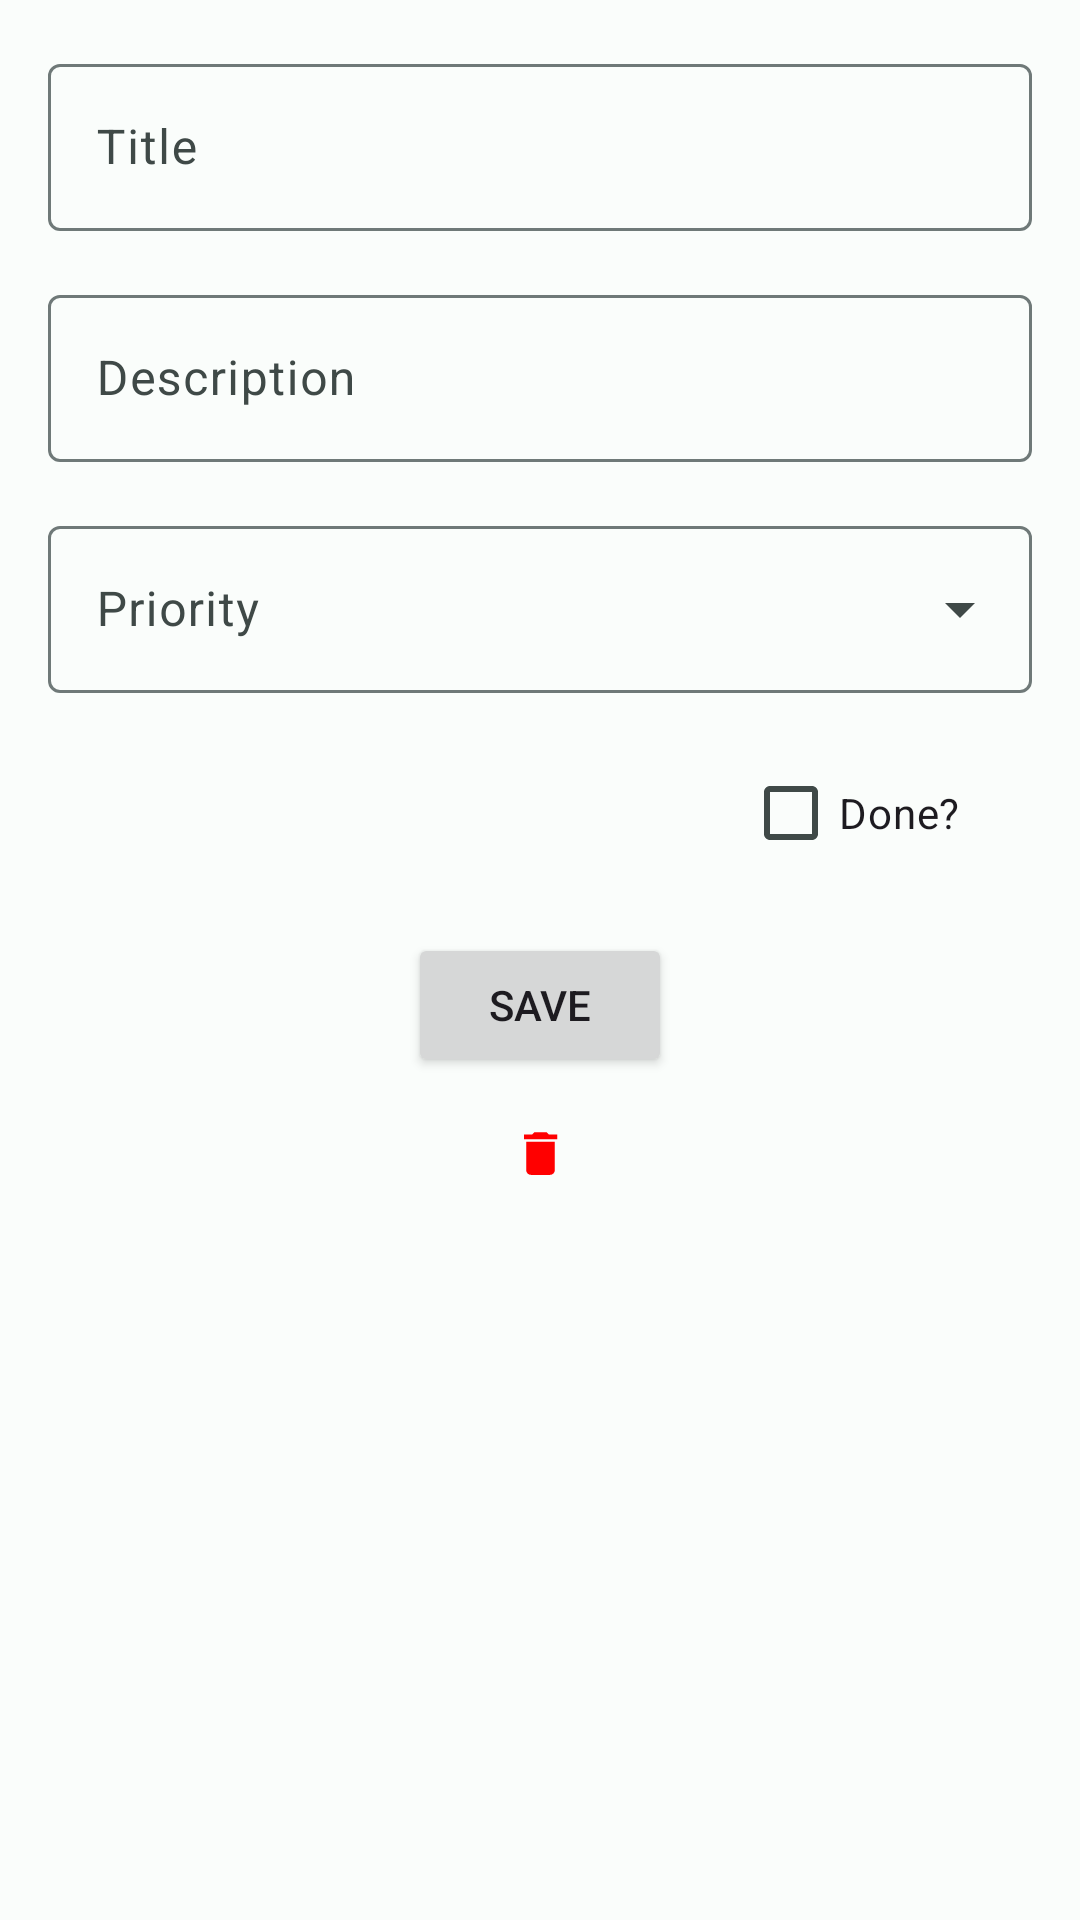

Point at icon controls on the screen. Image size 1080*1920, points as (x=x, y=y).
delete: (x=541, y=1153)
